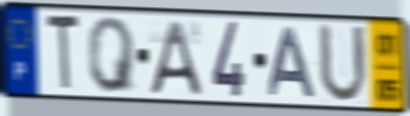4: (209, 19, 247, 101)
A: (147, 18, 205, 97), (266, 26, 319, 100)
Q: (85, 14, 138, 95)
T: (44, 11, 83, 94)
U: (316, 21, 370, 107)
